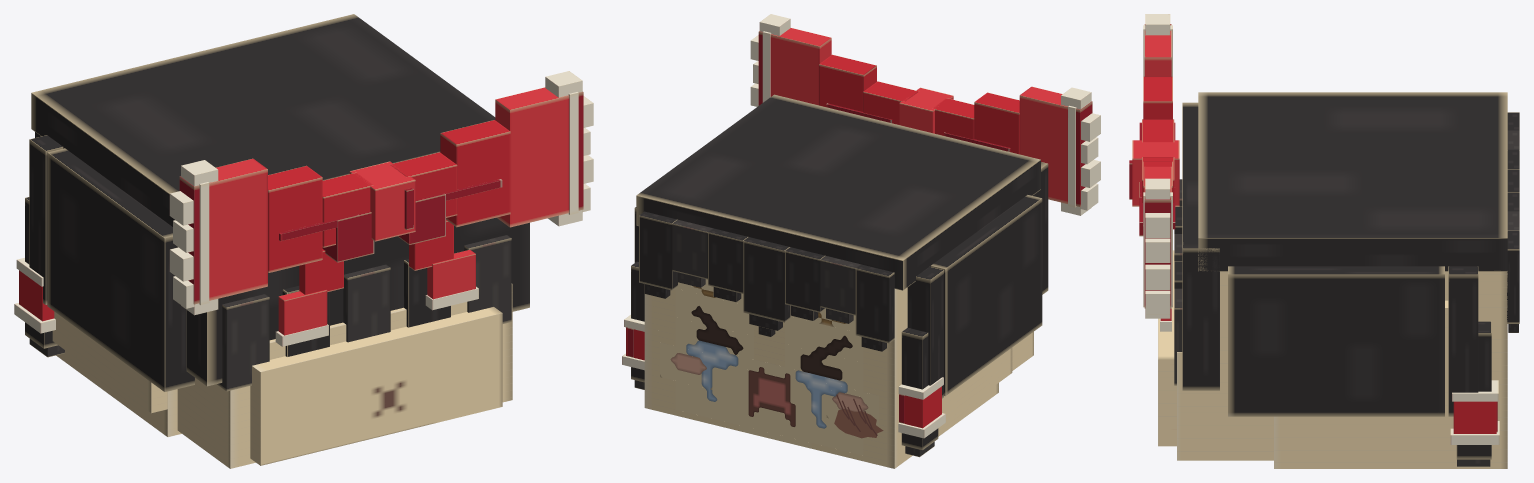
The model's file is body_scratch.obj.
3 views of the same model, side by side, from view 1: azimuth 30°, elevation 25°; view 2: azimuth 150°, elevation 25°; view 3: azimuth 270°, elevation 25° (orthographic). The views are drawn at different scales.
Parts seen in each view (by area): view 1: body_scratch; view 2: body_scratch; view 3: body_scratch.
Part boxes in pixels (<box>): body_scratch: <box>14,14,593,468</box>; body_scratch: <box>622,14,1100,468</box>; body_scratch: <box>1129,14,1519,468</box>.
Size of the model in its own units: 16.28 by 12.24 by 14.49.
1 material, 1 textured.
